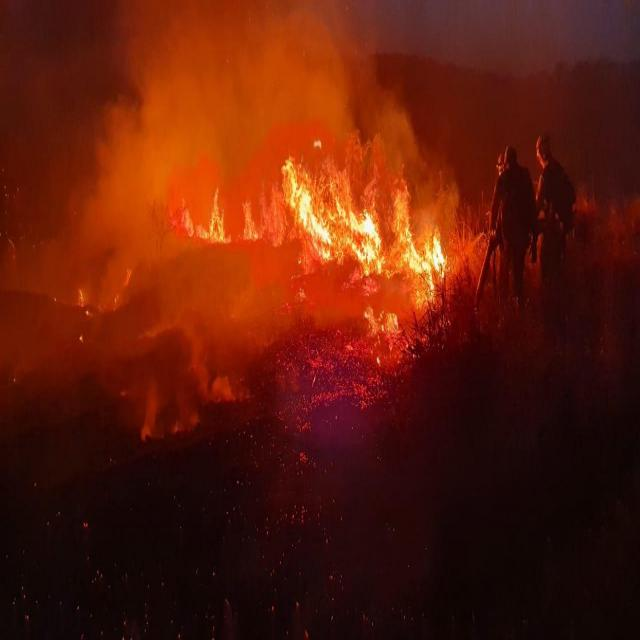fire: (116, 121, 445, 302)
